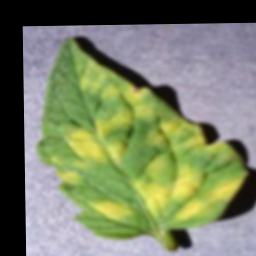Leaf_Mold: (49, 51, 163, 187), (131, 114, 248, 225), (89, 194, 138, 224)
